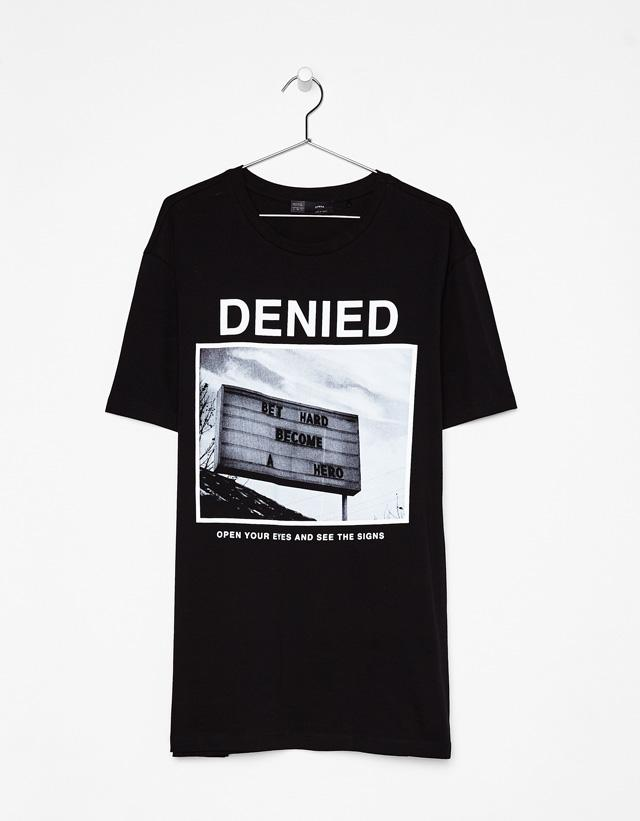teeshirt: (90, 164, 562, 787)
